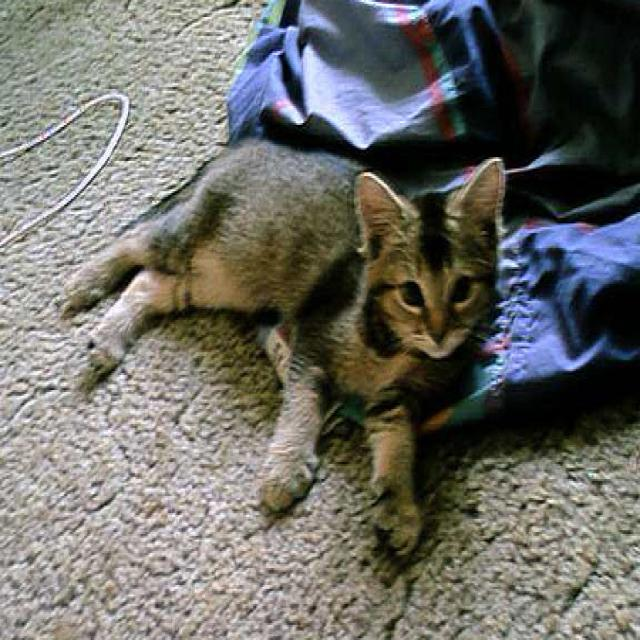Abyssinian: (59, 131, 511, 566)
